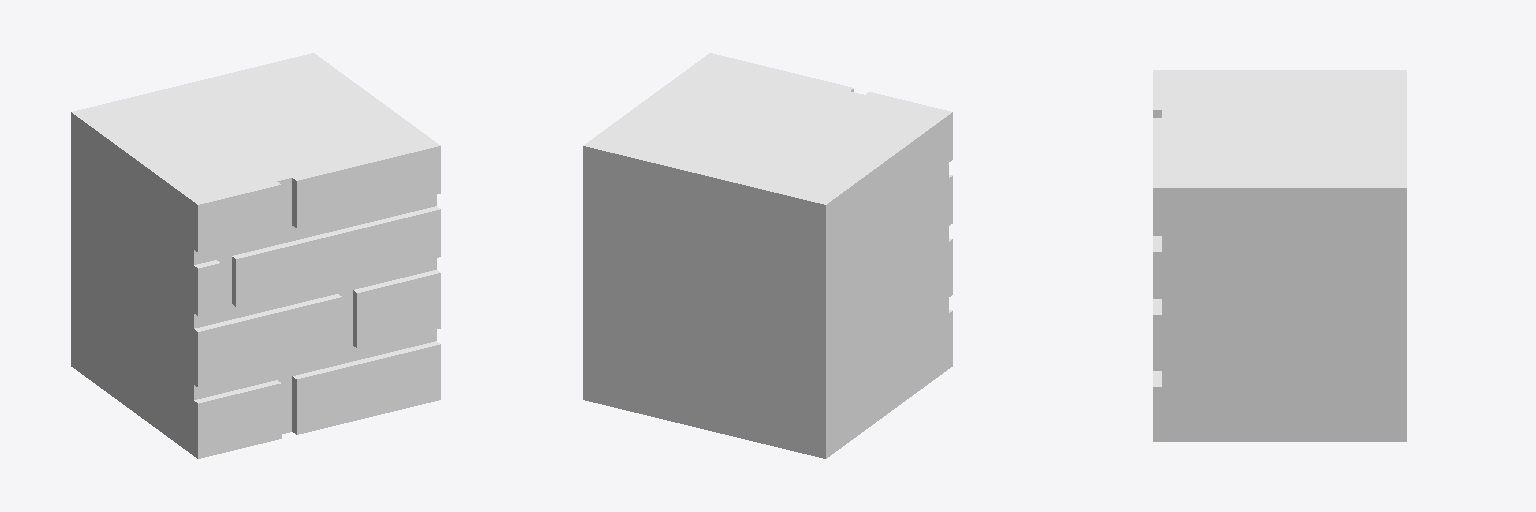
The model's file is stone_bricks-8.obj.
The picture shows the model from 3 angles: view 1: azimuth 30°, elevation 25°; view 2: azimuth 150°, elevation 25°; view 3: azimuth 270°, elevation 25°; orthographic projection.
Parts seen in each view (by area): view 1: object 1; view 2: object 1; view 3: object 1.
Part boxes in pixels (left/top/right/bottom): object 1: left=71, top=53, right=440, bottom=458; object 1: left=583, top=53, right=952, bottom=458; object 1: left=1153, top=70, right=1406, bottom=441.
Size of the model in its own units: 3.2 by 3.2 by 2.9.